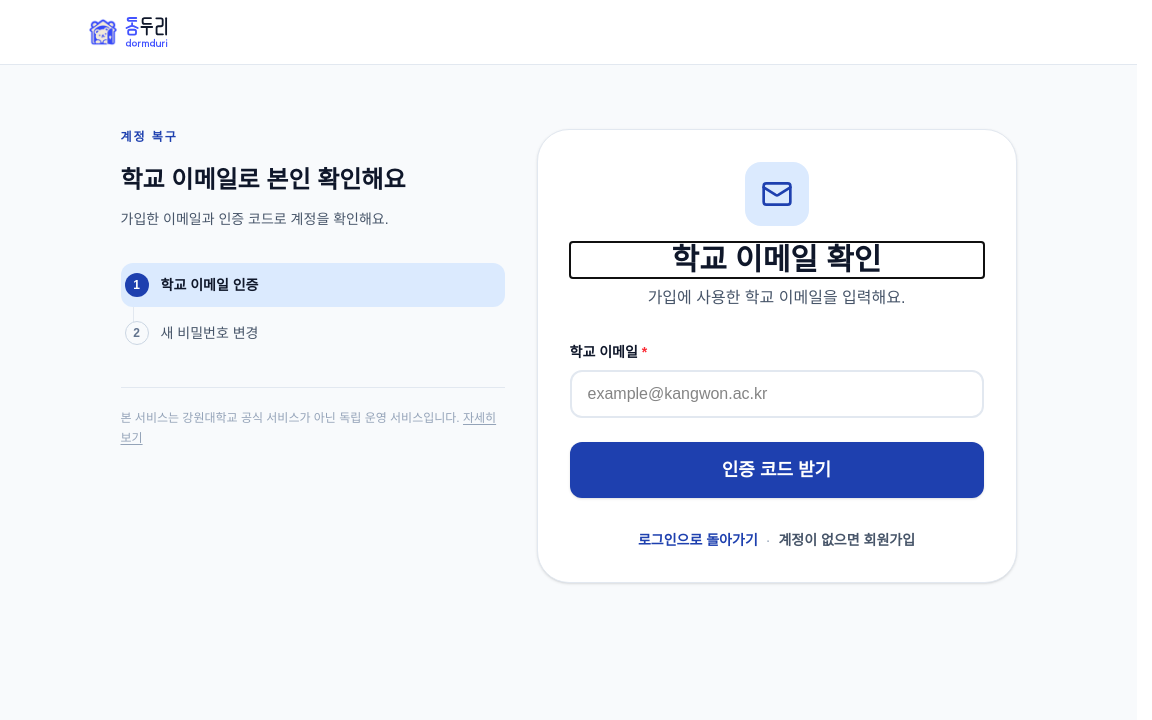
Test: PasswordResetPageClient › code 재전송 실패는 기존 입력을 유지하고 실패 feedback을 표시한다
In the field labelled "학교 이메일*": x=776, y=394 x1=570 y1=370 x2=984 y2=418, type "test@kangwon.ac.kr"
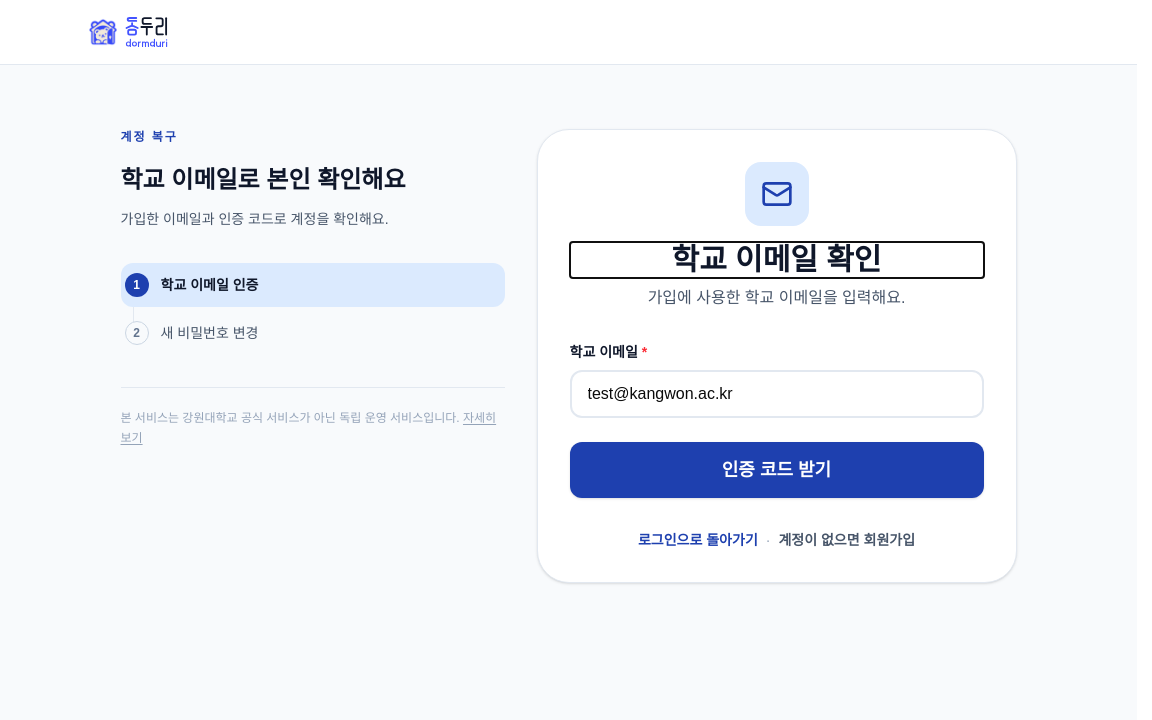
Click the button "인증 코드 받기": x=776, y=470 x1=570 y1=442 x2=984 y2=498
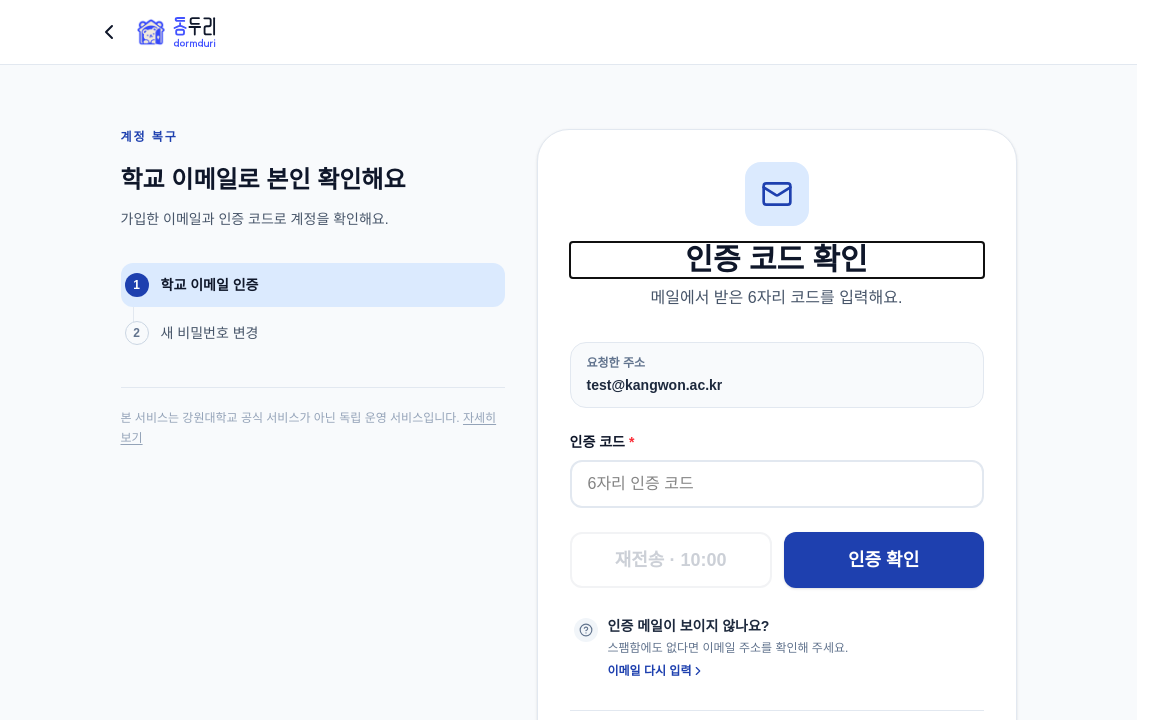
In the field labelled "인증 코드*": x=776, y=484 x1=570 y1=460 x2=984 y2=508, type "123456"
Wait 600000 ms
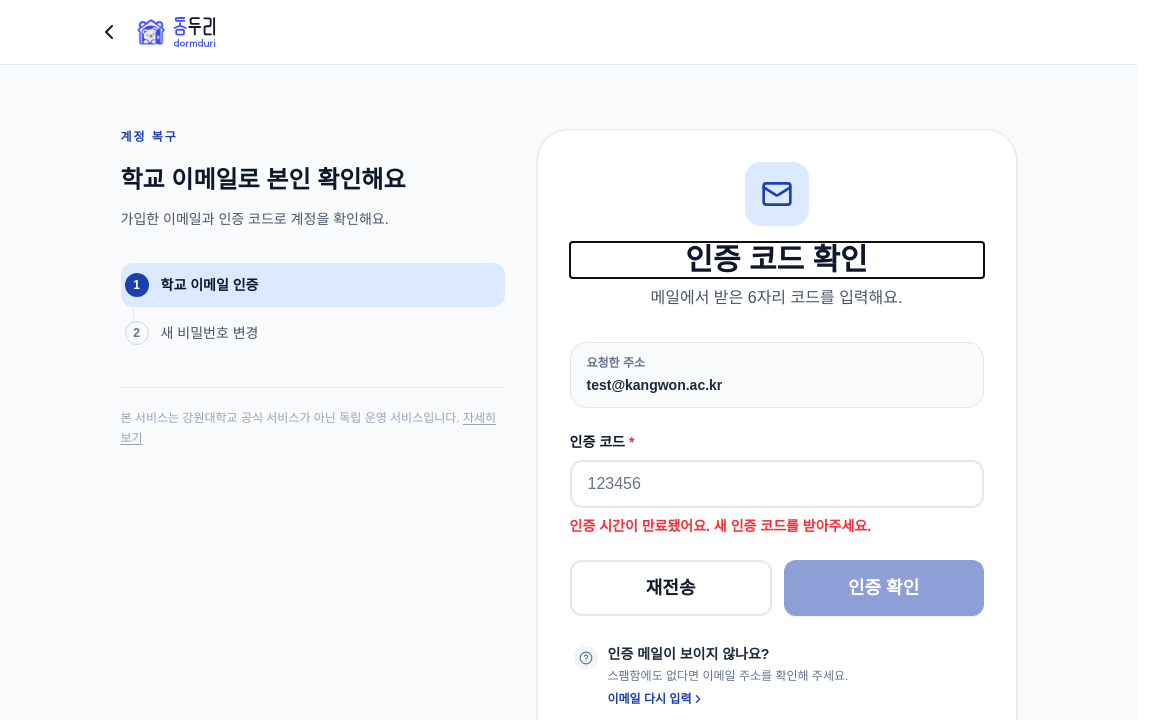
Click the button "재전송": x=671, y=588 x1=570 y1=560 x2=772 y2=616
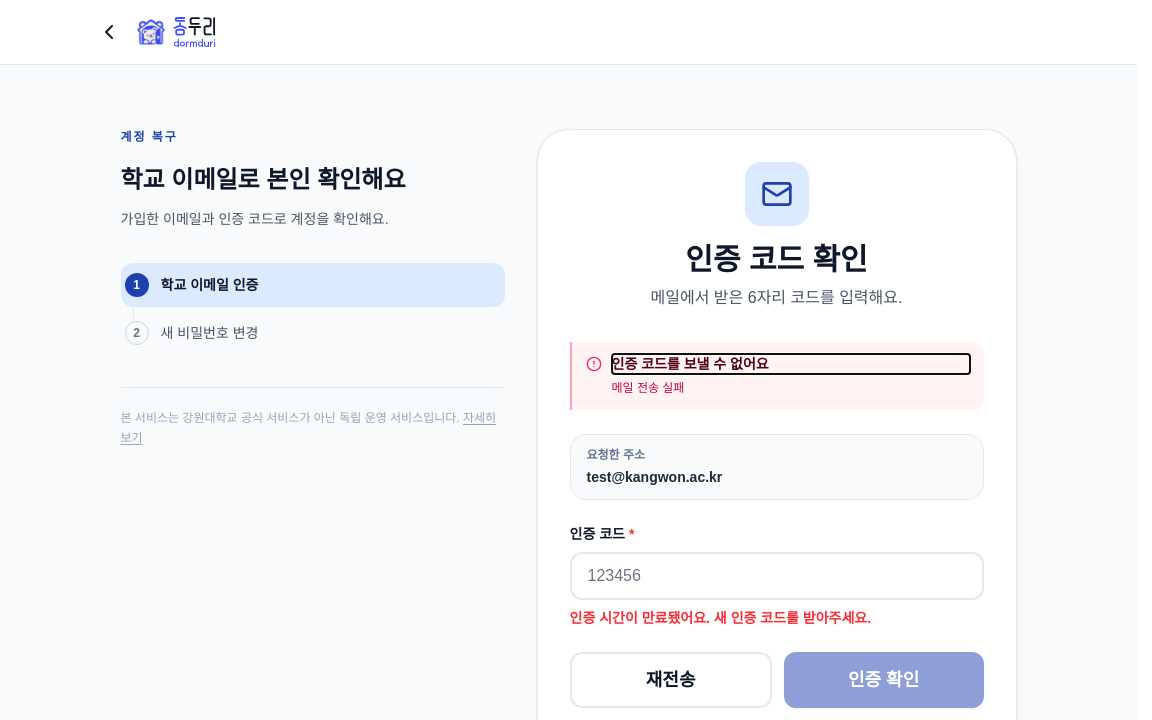
Expected: the message shows "인증 코드를 보낼 수 없어요", x1=612 y1=356 x2=769 y2=372
Expected: the message shows "메일 전송 실패", x1=612 y1=381 x2=684 y2=395
